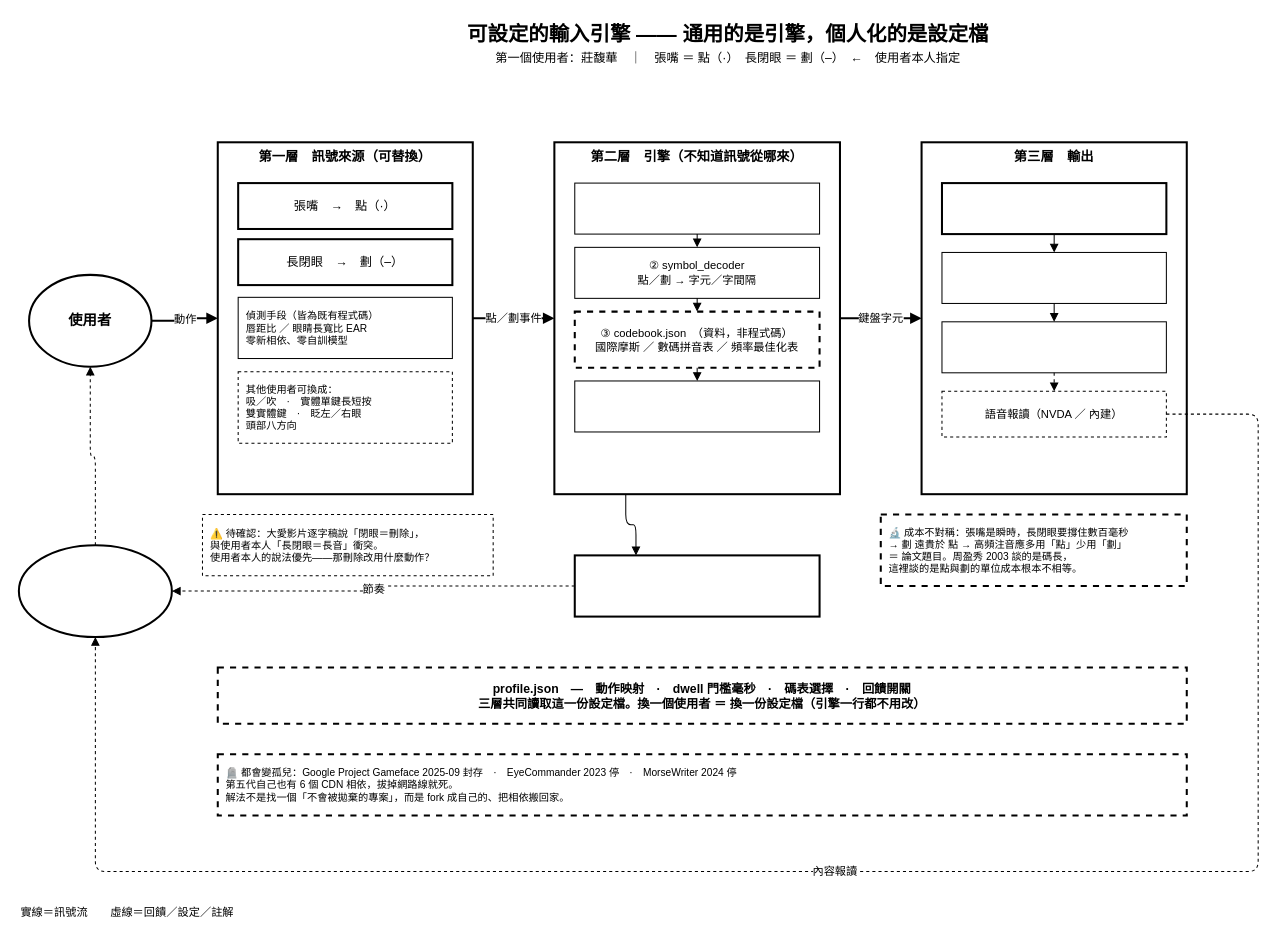
The diagram is 1284 pixels wide and 939 high, and some of its shapes have lost their labels. Here are the shapes that lost their labels. From the top down, the centre of each, then its label:
At [697,208]: "① 訊號正規化 去彈跳 · dwell 門檻 · 濾自然眨眼".
At [1053,208]: "USB HID 鍵盤（Pico） 或 Ace Centre MorseWriter".
At [1053,277]: "Windows 內建注音 IME 注音 → 組字選字".
At [1053,347]: "應用程式 LINE ／ Word ／ 瀏覽器".
At [697,406]: "④ mode_machine 打字 ／ 滑鼠 ／ 刪除 ／ 模式切換".
At [94,591]: "聽覺 唯一的回饋管道".
At [696,585]: "側音 sidetone 瀏覽器內建 Web Audio （不需蜂鳴器、不需 Tone.js）".
